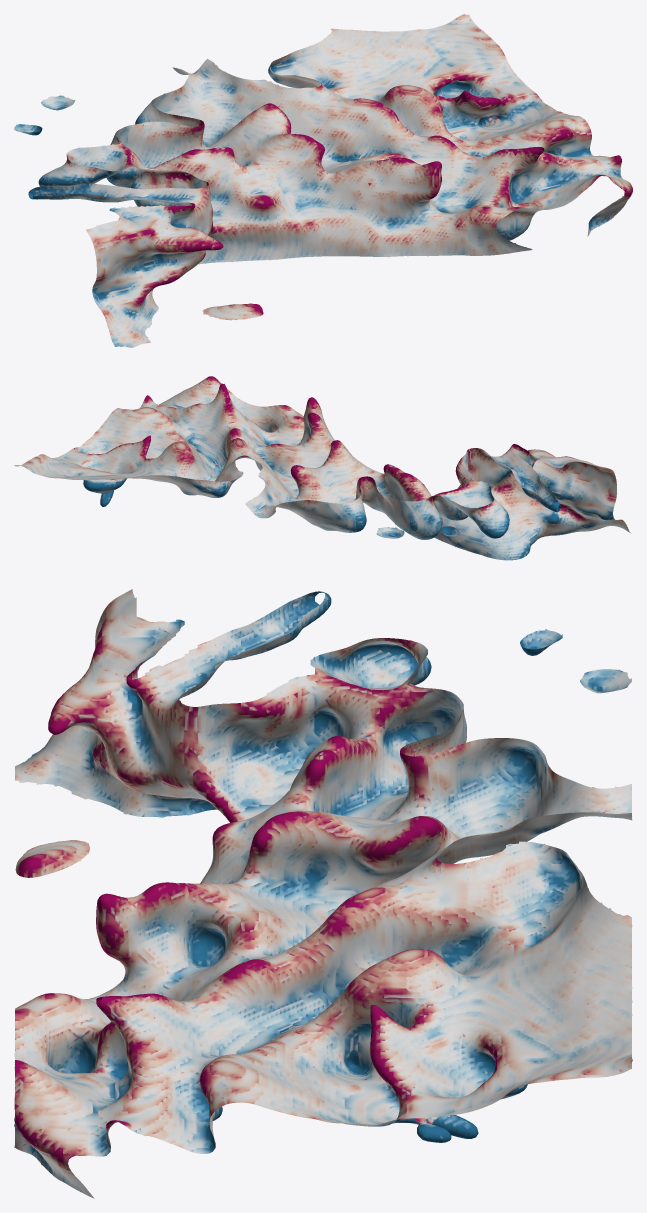
The model's file is crop1151_curvature.glb.
3 renders of one model, top to bottom at view 1: azimuth 30°, elevation 25°; view 2: azimuth 150°, elevation 25°; view 3: azimuth 270°, elevation 25°, orthographic. The views are drawn at different scales.
Parts seen in each view (by area): view 1: geometry_0; view 2: geometry_0; view 3: geometry_0.
Boxes of the visible parts, x1,y1,x2,y2 form: geometry_0: (14,14,632,347); geometry_0: (14,376,631,560); geometry_0: (14,589,632,1198).
Size of the model in its own units: 3879 by 680 by 2279.
